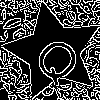Q: (28, 27, 91, 90)
